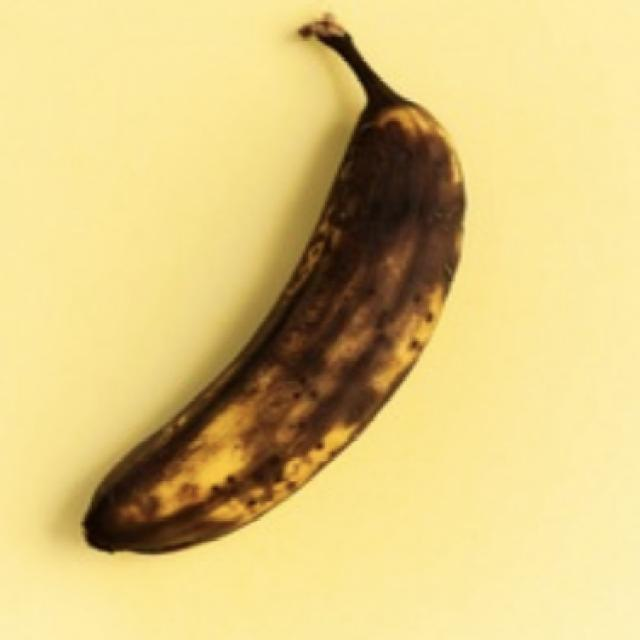Rotten: (68, 9, 490, 573)
